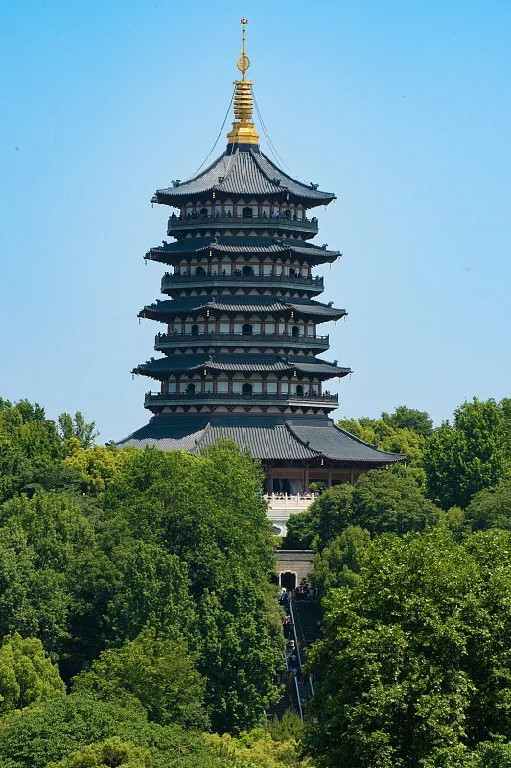Leifeng: (101, 14, 410, 492)
